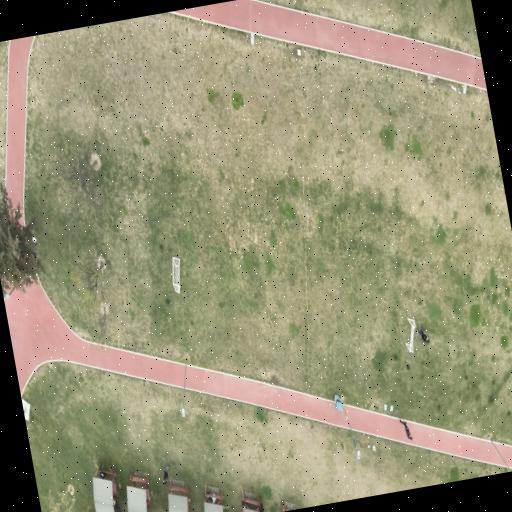person: (398, 418, 411, 439), (416, 326, 428, 342), (162, 465, 168, 484), (113, 502, 120, 511), (98, 470, 105, 478), (258, 501, 262, 511)
